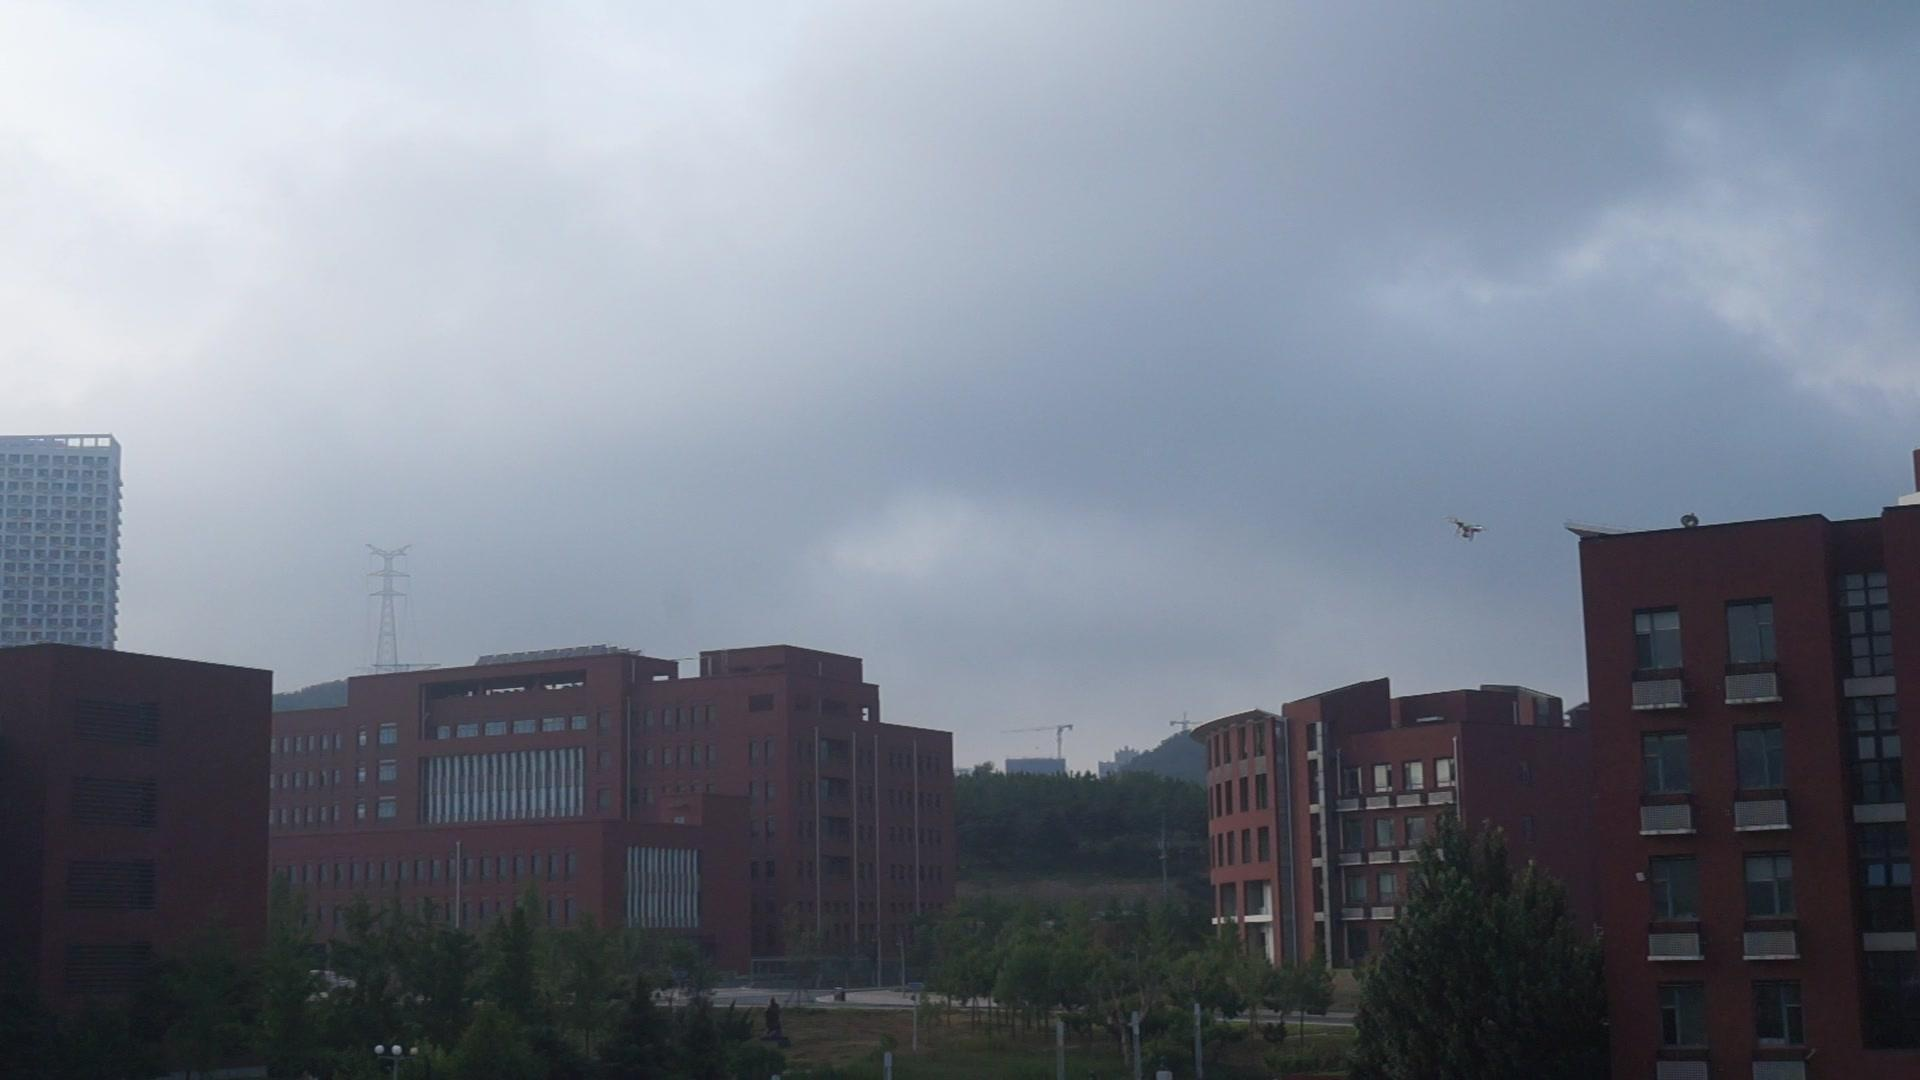UAV: (1447, 516, 1489, 543)
